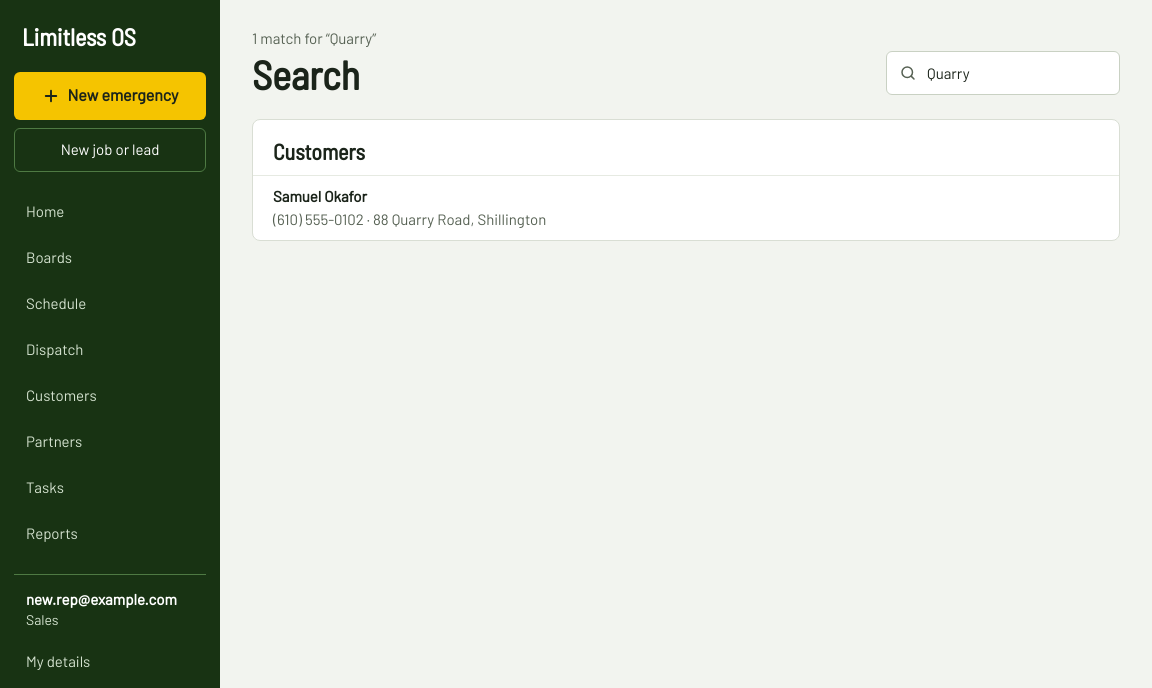
Test: Search › finds a customer by property address, and a contact by name
The image size is (1152, 688).
Expected: the link "Samuel Okafor (610) 555-0102 · 88 Quarry Road, Shillington" is shown, x1=253 y1=175 x2=1119 y2=240
Step 1. Replace the text in the search field named "Search" with "Lindqvist" → coordinates (1016, 73), box x1=925 y1=53 x2=1107 y2=93
Then press Enter
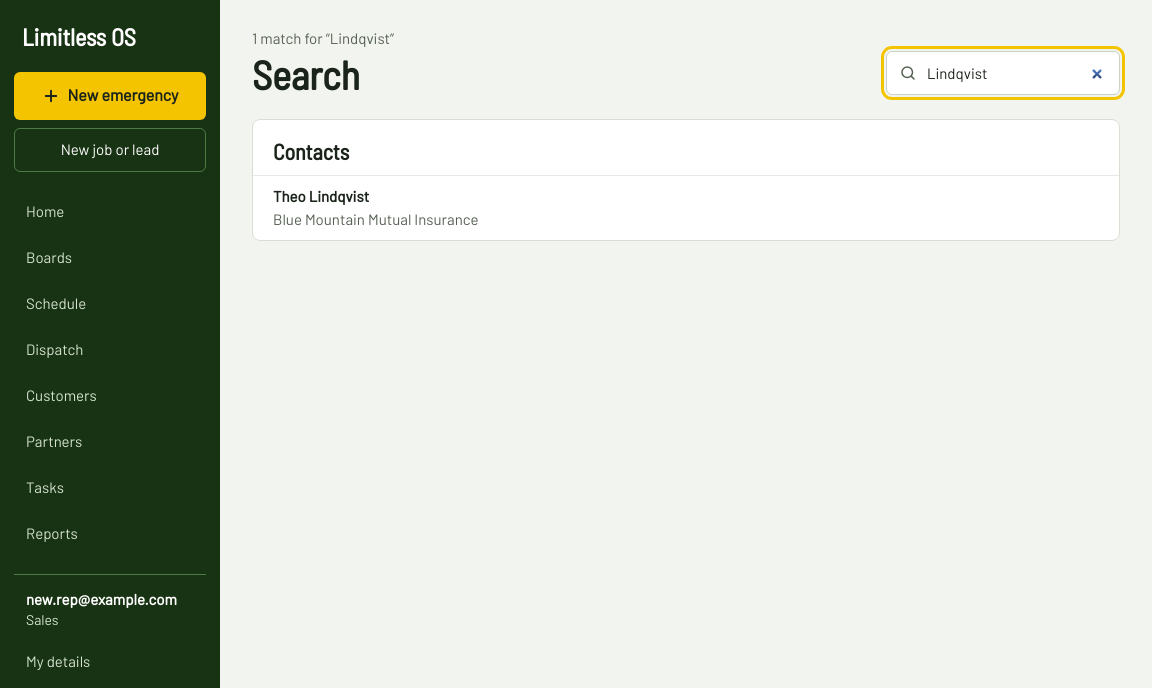
Expected: the link "Theo Lindqvist Blue Mountain Mutual Insurance" is shown, x1=253 y1=175 x2=1119 y2=240
